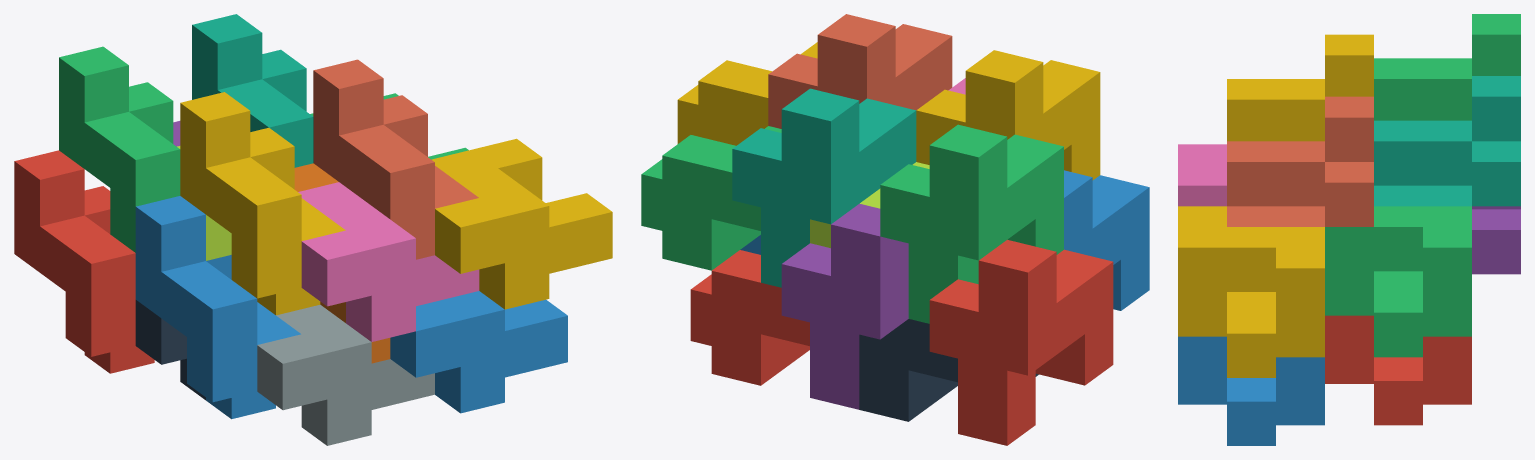
File: tiling.obj
The picture shows the model from 3 angles, left to right: view 1: azimuth 30°, elevation 25°; view 2: azimuth 150°, elevation 25°; view 3: azimuth 270°, elevation 25°; orthographic projection. The views are drawn at different scales.
Visible parts, largest first — view 1: copy_1_domain_4, copy_2_domain_8, copy_1_domain_2, copy_1_domain_1, copy_1_domain_8, copy_1_domain_3, copy_2_domain_4, copy_2_domain_6, copy_2_domain_2, copy_1_domain_7, copy_2_domain_1, copy_1_domain_6 (+1 smaller); view 2: copy_1_domain_1, copy_1_domain_3, copy_1_domain_7, copy_1_domain_5, copy_1_domain_4, copy_1_domain_8, copy_2_domain_7, copy_2_domain_5, copy_1_domain_2, copy_2_domain_1, copy_2_domain_8, copy_2_domain_3; view 3: copy_2_domain_8, copy_2_domain_7, copy_1_domain_7, copy_1_domain_8, copy_2_domain_5, copy_2_domain_6, copy_1_domain_4, copy_1_domain_3, copy_1_domain_5, copy_2_domain_4.
Part boxes in pixels (x1,y1,x2,y2): copy_1_domain_4: [180, 92, 345, 315]; copy_2_domain_8: [431, 138, 612, 309]; copy_1_domain_2: [135, 196, 300, 419]; copy_1_domain_1: [14, 150, 154, 373]; copy_1_domain_8: [313, 59, 478, 259]; copy_1_domain_3: [59, 46, 180, 252]; copy_2_domain_4: [298, 182, 479, 341]; copy_2_domain_6: [390, 291, 567, 413]; copy_2_domain_2: [257, 304, 434, 445]; copy_1_domain_7: [192, 14, 313, 167]; copy_2_domain_1: [135, 300, 205, 400]; copy_1_domain_6: [294, 163, 390, 363]; copy_1_domain_1: [929, 239, 1113, 445]; copy_1_domain_3: [880, 124, 1063, 323]; copy_1_domain_7: [732, 88, 916, 287]; copy_1_domain_5: [781, 203, 908, 409]; copy_1_domain_4: [916, 50, 1100, 180]; copy_1_domain_8: [768, 14, 952, 128]; copy_2_domain_7: [641, 126, 781, 270]; copy_2_domain_5: [690, 250, 809, 385]; copy_1_domain_2: [1064, 170, 1149, 310]; copy_2_domain_1: [859, 319, 1038, 421]; copy_2_domain_8: [677, 42, 817, 145]; copy_2_domain_3: [810, 162, 929, 248]; copy_2_domain_8: [1178, 206, 1324, 377]; copy_2_domain_7: [1325, 206, 1471, 357]; copy_1_domain_7: [1374, 76, 1520, 206]; copy_1_domain_8: [1227, 96, 1373, 226]; copy_2_domain_5: [1325, 315, 1471, 425]; copy_2_domain_6: [1178, 336, 1324, 445]; copy_1_domain_4: [1227, 34, 1373, 141]; copy_1_domain_3: [1374, 14, 1520, 120]; copy_1_domain_5: [1472, 206, 1520, 274]; copy_2_domain_4: [1178, 144, 1226, 206].
Bounding box in the file's own units: 10 × 6 × 7.
